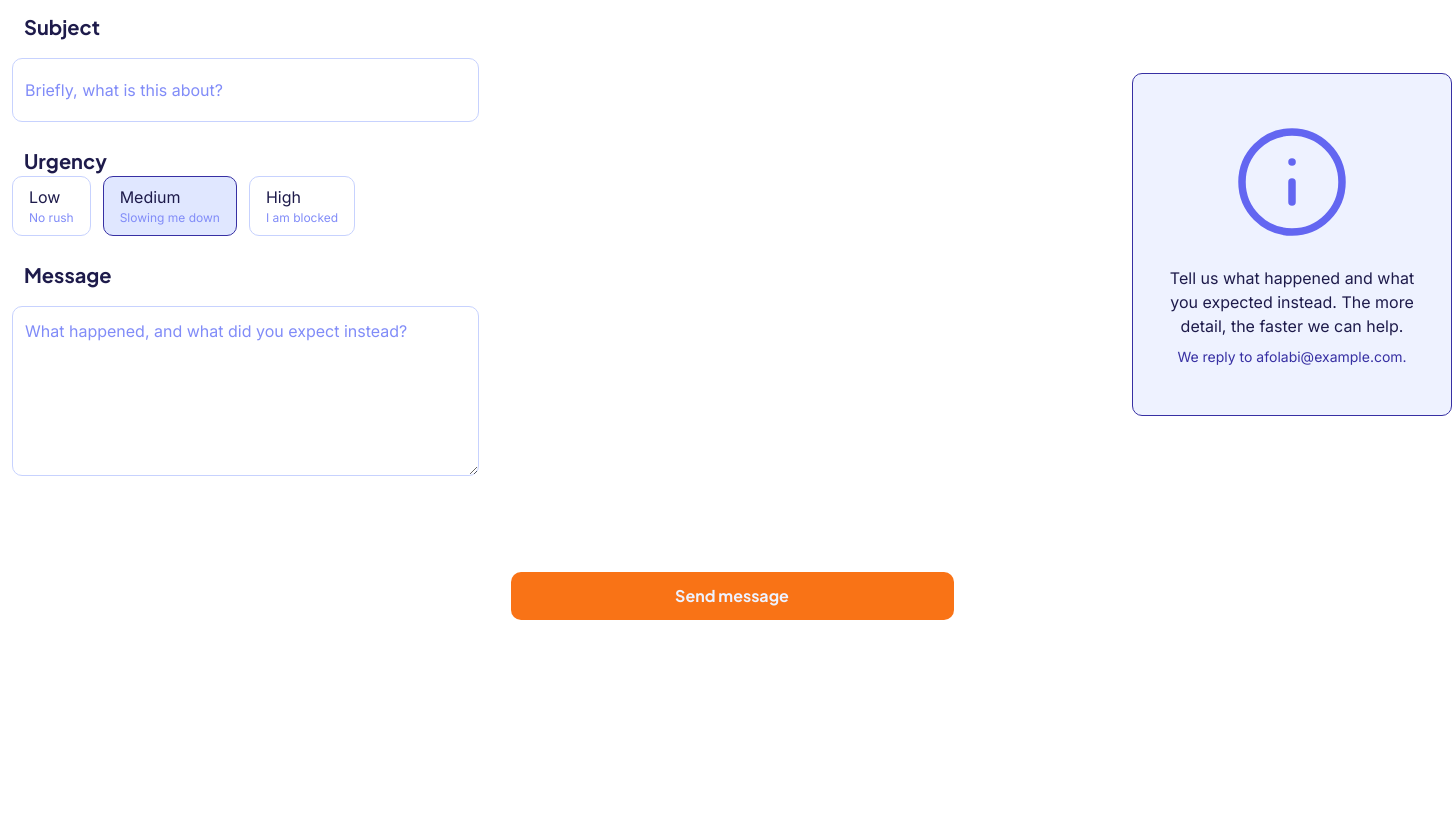
it: ContactSupportForm — sending › names a rejected field beside it and in the panel
Type "Cannot open my quiz" into the field labelled "Subject".
click(246, 90); type("Cannot open my quiz")  # box [12,58,479,122]
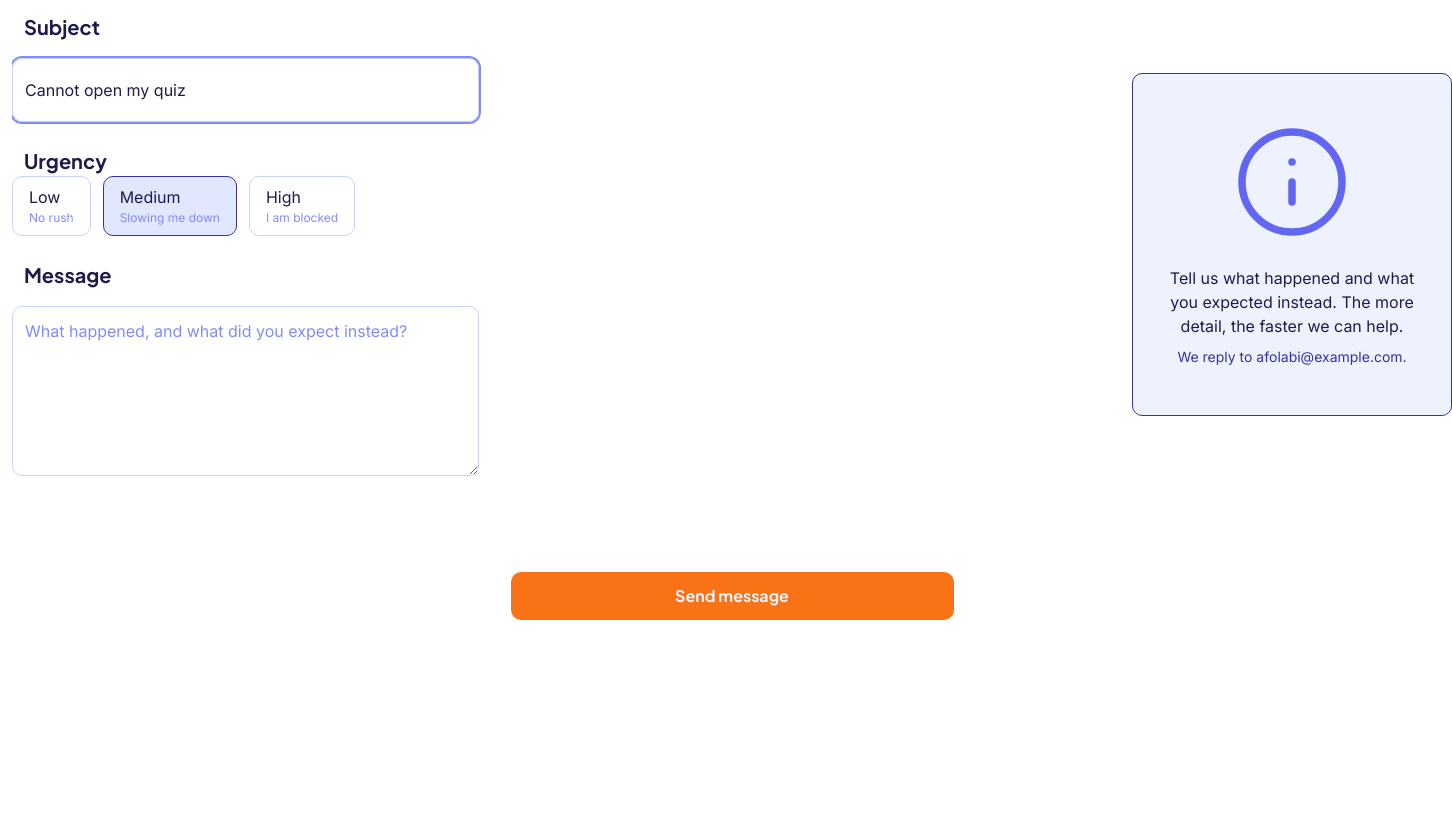
Type "broken" into the text box labelled "Message".
click(246, 391); type("broken")  # box [12,306,479,476]
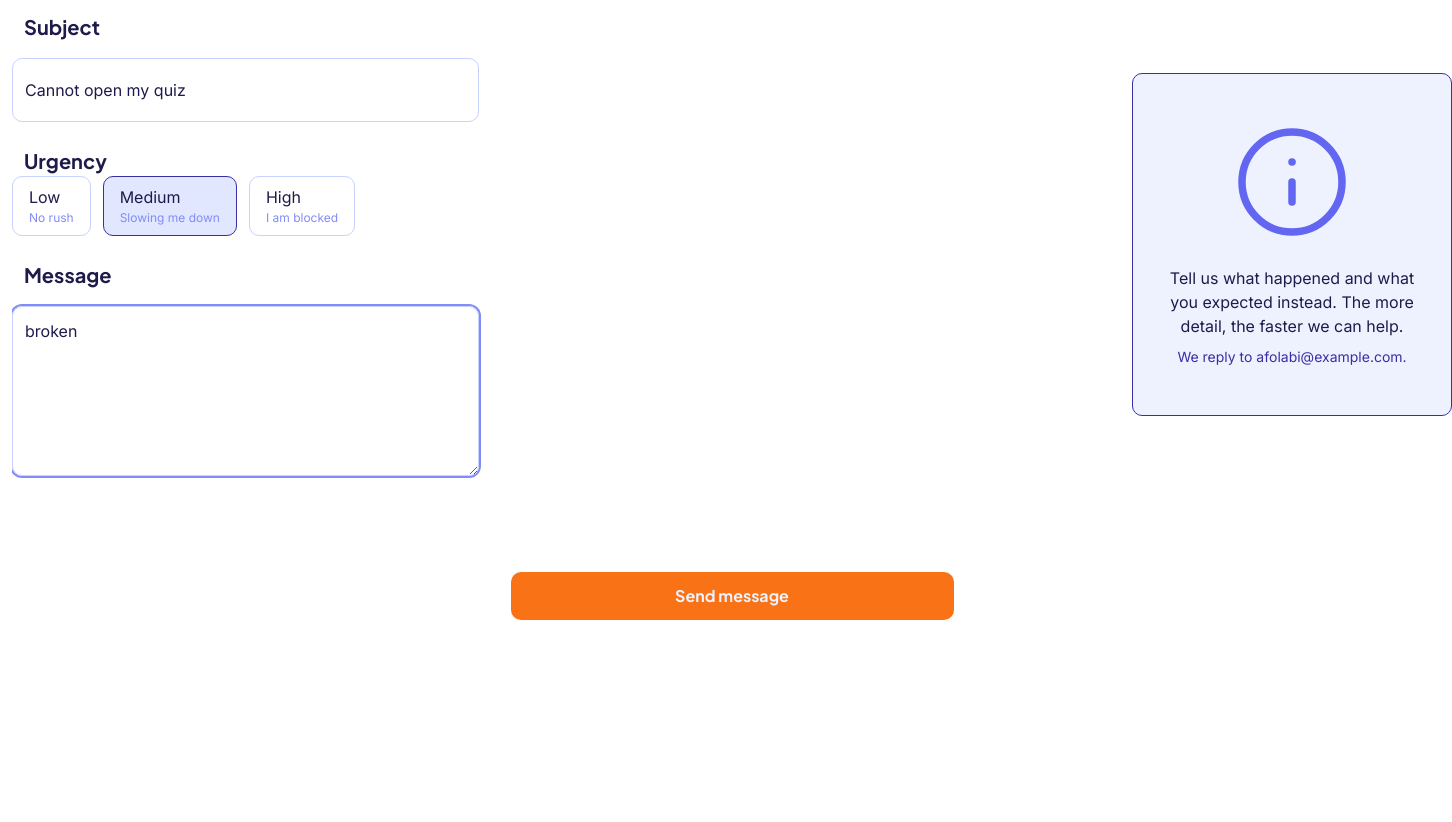
Click the button "Send message".
click(732, 596)  # box [510,572,954,620]
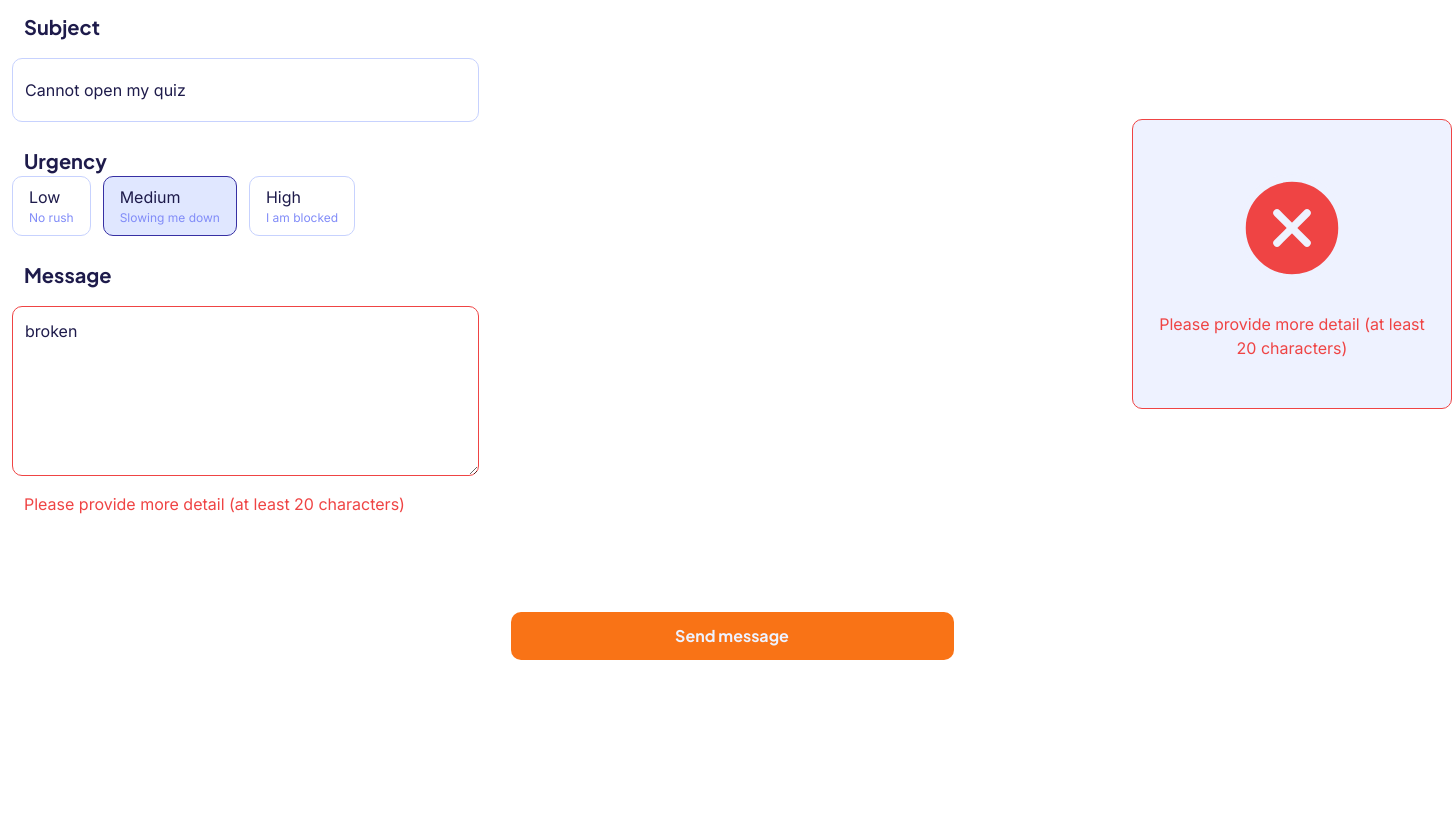
Result: the text "Please provide more detail (at least 20 characters)" is shown 2 times at [24,494,405,514]; [1157,312,1427,360]
